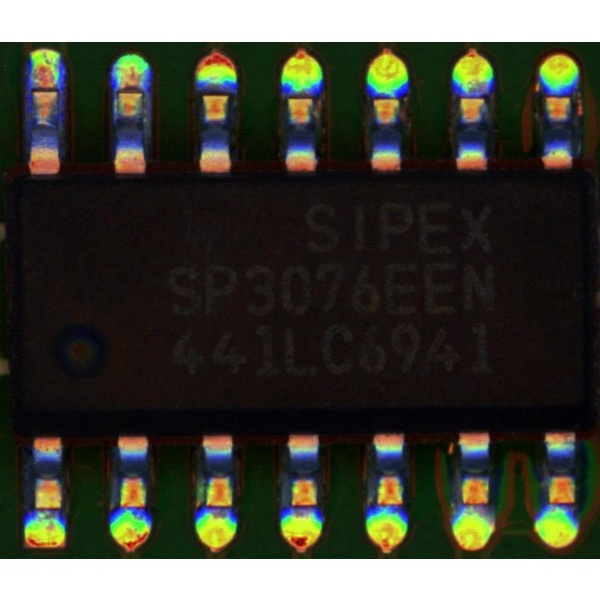Bad_podu: (119, 70, 143, 99), (34, 77, 57, 101)
